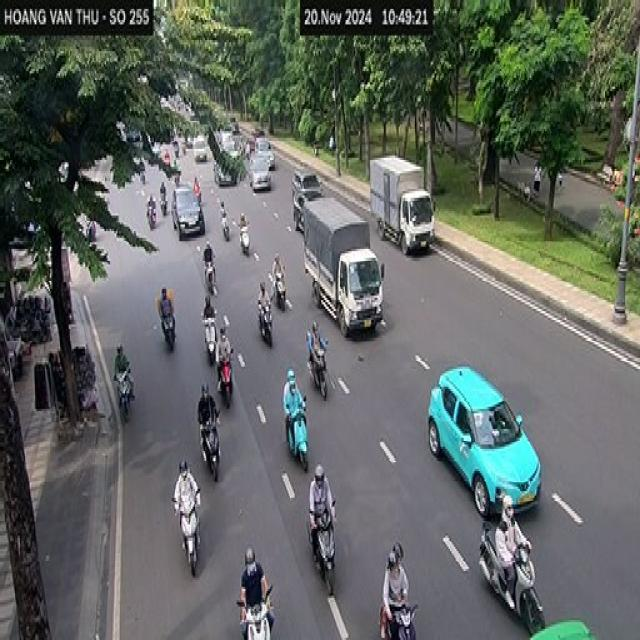car: (424, 351, 550, 513)
motorcycle: (480, 522, 551, 634), (175, 490, 211, 582), (305, 512, 339, 602), (281, 405, 313, 477), (306, 338, 334, 402), (198, 417, 223, 483), (241, 597, 277, 640), (257, 295, 277, 354), (216, 350, 237, 406)
person: (492, 490, 523, 570), (238, 540, 268, 608), (309, 464, 335, 516), (172, 456, 198, 506), (196, 381, 216, 422), (286, 378, 304, 416), (308, 313, 324, 352), (217, 324, 232, 356), (257, 276, 268, 310)
truck: (300, 194, 385, 334), (366, 150, 440, 262)
